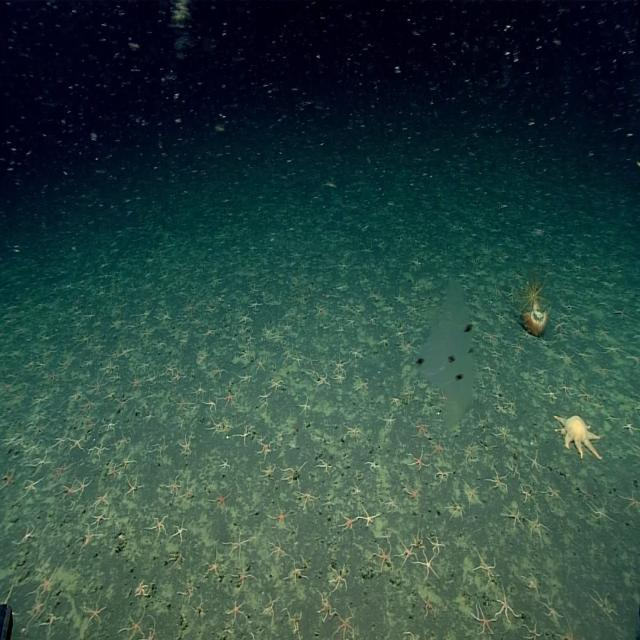brittle-stars: (372, 542, 396, 576), (495, 588, 517, 624), (227, 529, 252, 560), (472, 604, 496, 635), (282, 607, 304, 640), (121, 611, 146, 640), (474, 551, 498, 581), (334, 609, 357, 640), (34, 568, 58, 597), (85, 596, 108, 626), (589, 589, 613, 616), (204, 550, 224, 582), (261, 592, 281, 624), (417, 552, 438, 580), (555, 620, 584, 640), (269, 505, 291, 531), (280, 463, 304, 486), (226, 598, 248, 622), (16, 522, 38, 546), (504, 506, 525, 531), (330, 565, 350, 591), (528, 514, 548, 540), (286, 560, 306, 586), (542, 596, 562, 622), (589, 499, 611, 522), (149, 515, 170, 539), (210, 488, 231, 512), (28, 595, 49, 619), (317, 590, 334, 619), (358, 506, 379, 528), (29, 451, 51, 472), (77, 526, 98, 548), (488, 469, 508, 492), (409, 449, 429, 472), (234, 564, 254, 587), (23, 477, 44, 498), (621, 490, 640, 513), (41, 607, 60, 630), (463, 482, 481, 506), (270, 536, 288, 560), (429, 438, 447, 461), (406, 480, 423, 504), (526, 451, 545, 472), (126, 476, 144, 498), (397, 541, 415, 563), (448, 498, 466, 520), (421, 592, 436, 618), (296, 490, 316, 509), (524, 620, 543, 640), (150, 438, 168, 459), (172, 520, 188, 543), (340, 512, 358, 532), (495, 423, 513, 443), (93, 491, 111, 510), (91, 511, 110, 529), (166, 477, 183, 497), (91, 441, 108, 461), (0, 469, 16, 490), (428, 532, 443, 554), (527, 572, 542, 594), (174, 394, 192, 412), (140, 621, 157, 640), (414, 419, 430, 439), (117, 432, 133, 452), (178, 434, 192, 456), (345, 423, 363, 440), (26, 438, 43, 456), (75, 478, 91, 497), (135, 580, 150, 600), (180, 485, 195, 505), (61, 482, 78, 499), (55, 460, 72, 477), (543, 486, 561, 502), (54, 433, 70, 451), (259, 440, 273, 460), (600, 343, 620, 357), (221, 391, 237, 408), (558, 380, 574, 397), (559, 349, 575, 366), (334, 354, 349, 372), (117, 342, 132, 360), (238, 424, 252, 443), (462, 444, 475, 464), (210, 362, 226, 378), (436, 466, 452, 482), (511, 340, 527, 356), (262, 462, 277, 479), (129, 374, 144, 391), (547, 481, 564, 496), (91, 378, 106, 395), (300, 393, 311, 415), (354, 376, 369, 392), (318, 458, 333, 474), (542, 384, 556, 401), (208, 417, 222, 434), (404, 386, 418, 403), (239, 370, 254, 385), (381, 414, 396, 429), (81, 399, 96, 414), (315, 373, 329, 389), (574, 347, 590, 361), (482, 361, 498, 375), (70, 437, 84, 453), (580, 388, 596, 402), (365, 457, 379, 473), (386, 494, 398, 512), (271, 378, 285, 393), (104, 417, 118, 432), (624, 419, 638, 434), (484, 332, 500, 345), (205, 396, 218, 412), (120, 455, 133, 471), (255, 355, 266, 373), (218, 456, 231, 471), (351, 346, 364, 361), (107, 462, 119, 478), (264, 322, 276, 338), (334, 372, 348, 385), (204, 325, 217, 339), (170, 371, 183, 385), (161, 309, 173, 324), (249, 299, 262, 312), (240, 312, 253, 325), (494, 400, 506, 414), (405, 340, 417, 354), (352, 482, 362, 498), (597, 326, 610, 338), (282, 320, 294, 333), (394, 291, 406, 303), (304, 353, 314, 367), (505, 396, 515, 409), (347, 316, 357, 328), (340, 302, 350, 314)
